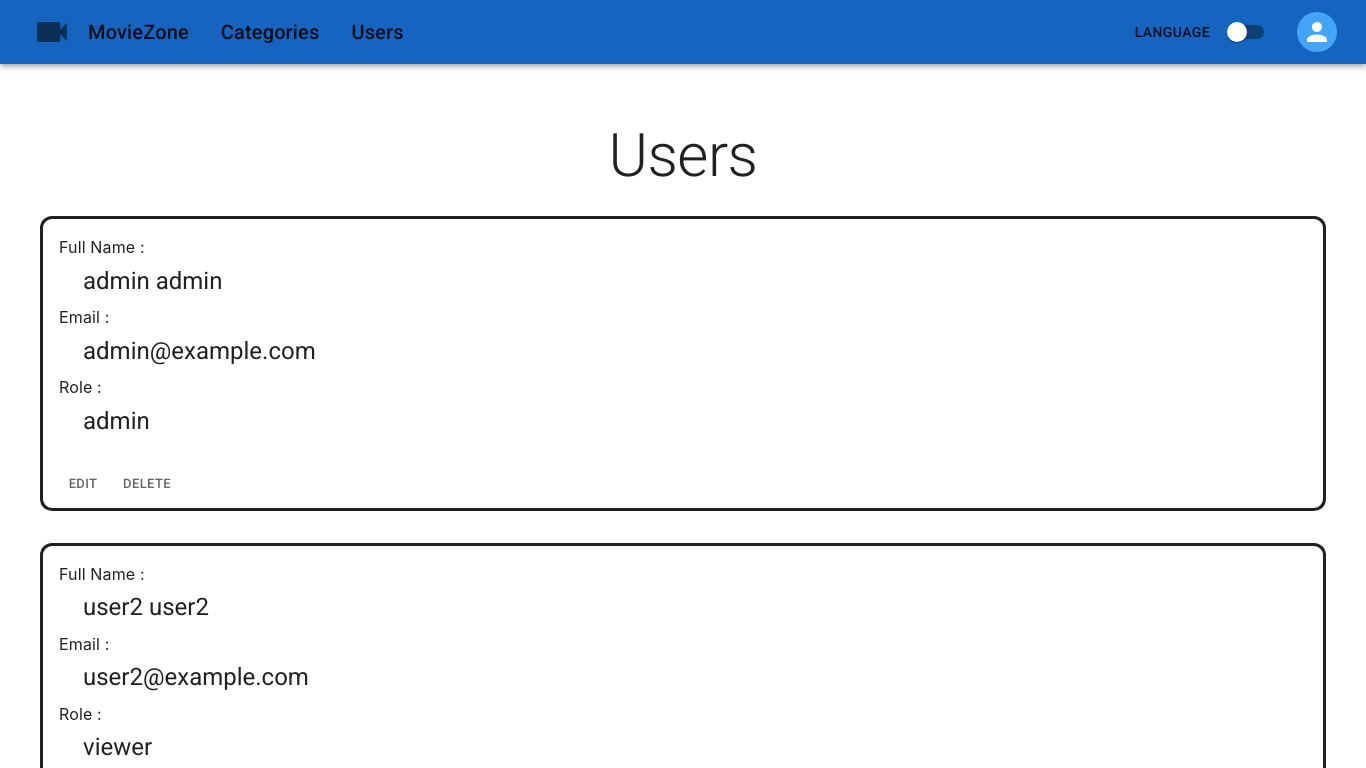
Test: user delete dialog opens and shows correctly
Click the button "Delete" at coordinates (147, 484), box x1=115 y1=469 x2=179 y2=500
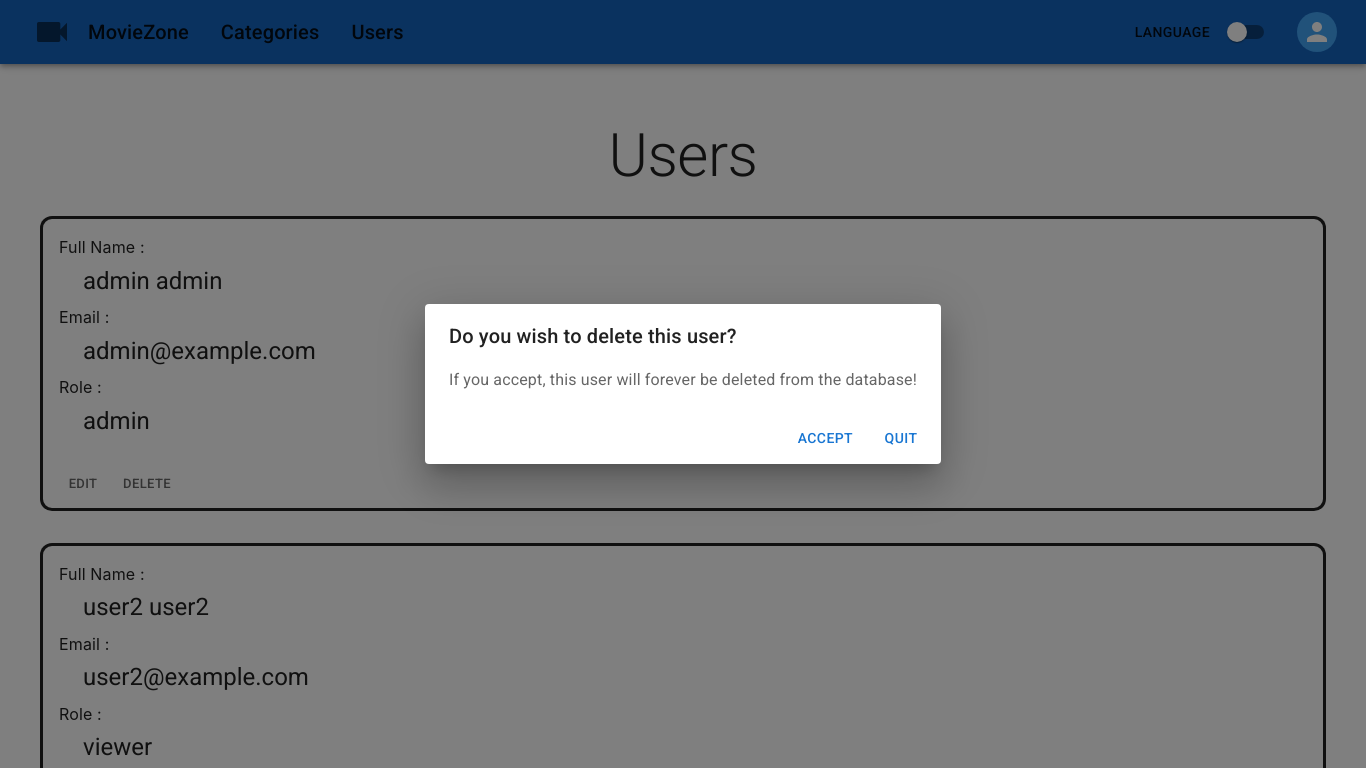
Result: the button "Accept" is shown at x1=790 y1=420 x2=861 y2=456
Result: the button "Quit" is shown at x1=869 y1=420 x2=933 y2=456
